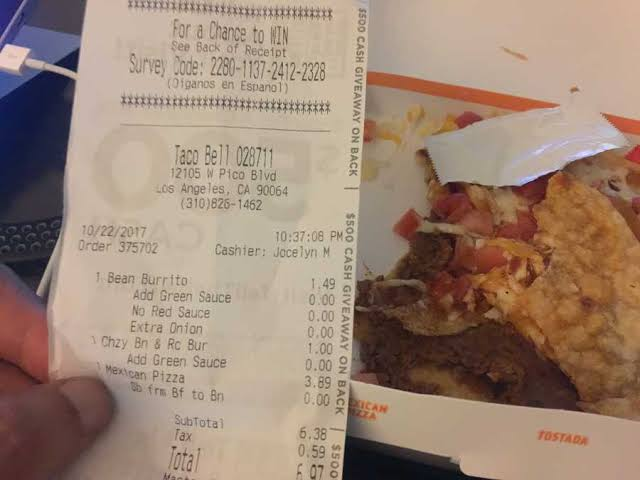Taco Bell: (170, 139, 232, 168)
